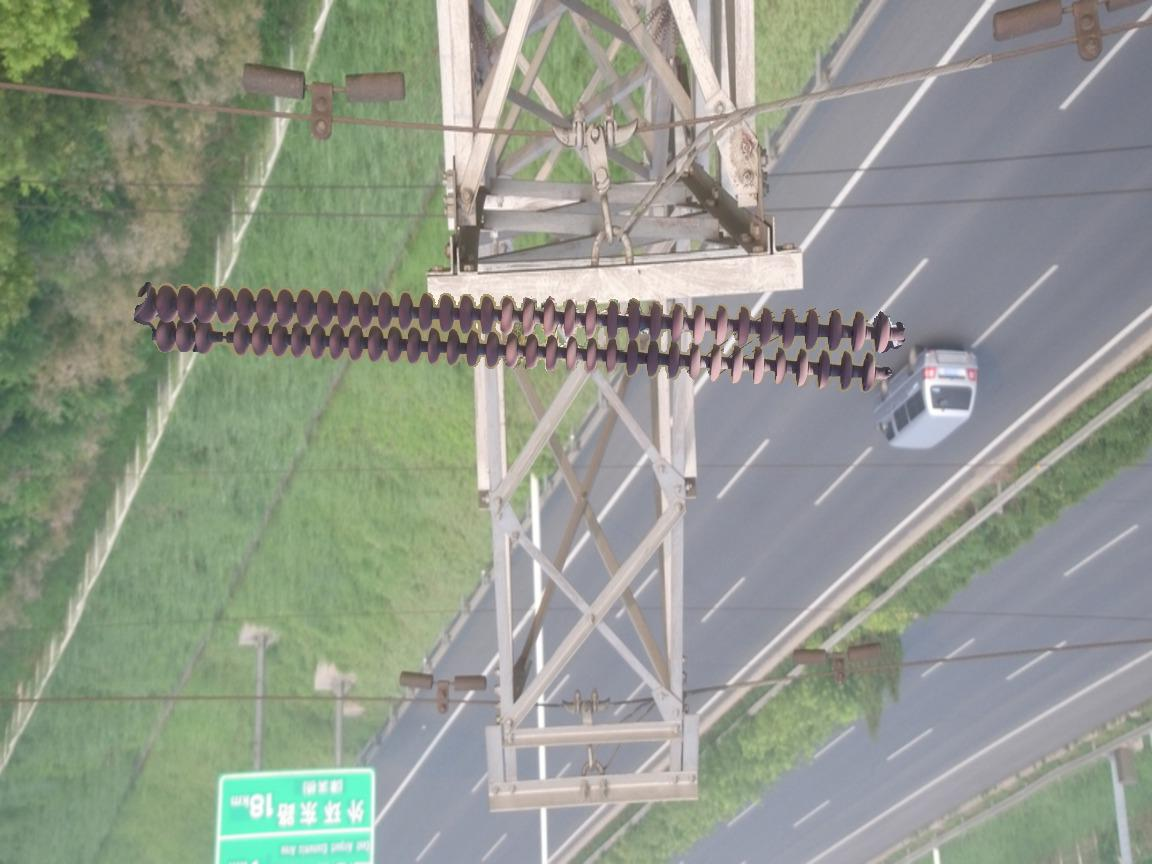insulator: (128, 275, 907, 395)
insulator_stringdrop: (192, 320, 251, 359)
